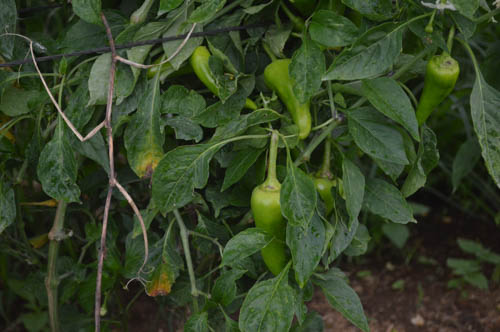ChiliPepper: (195, 49, 255, 109), (265, 61, 311, 136), (250, 187, 287, 276), (417, 55, 460, 124), (311, 174, 344, 210)
